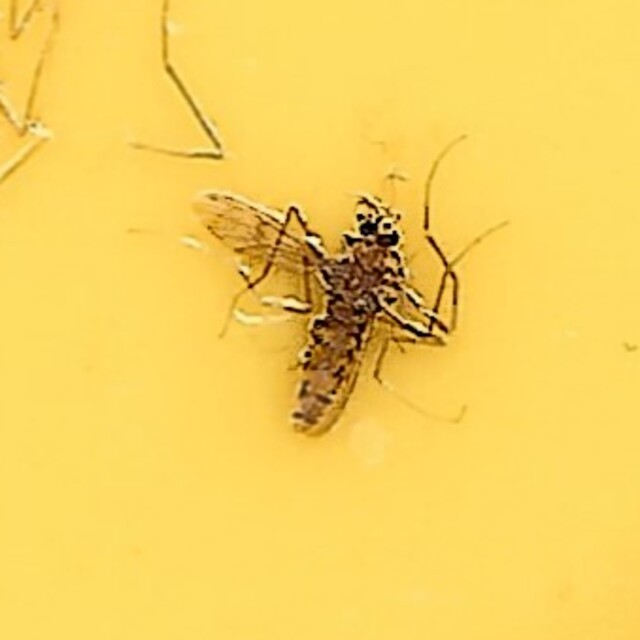Nematocera: (189, 186, 451, 454)
